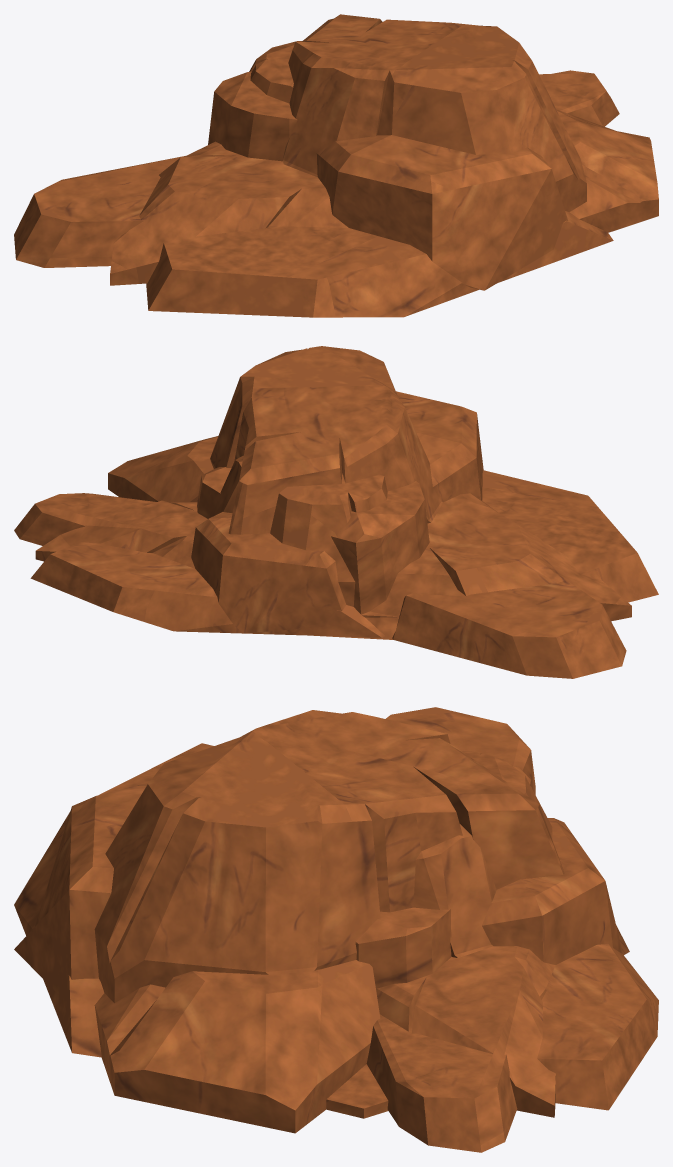
File: rock10.fbx
3 renders of one model, top to bottom at view 1: azimuth 30°, elevation 25°; view 2: azimuth 150°, elevation 25°; view 3: azimuth 270°, elevation 25°, orthographic. The views are drawn at different scales.
Parts seen in each view (by area): view 1: 10; view 2: 10; view 3: 10.
Boxes of the visible parts, x1,y1,x2,y2 form: 10: (14, 14, 658, 317); 10: (14, 346, 658, 678); 10: (14, 707, 658, 1152).
Size of the model in its own units: 101 by 26.12 by 67.47.
Materials: 1 (1 with a texture image).
